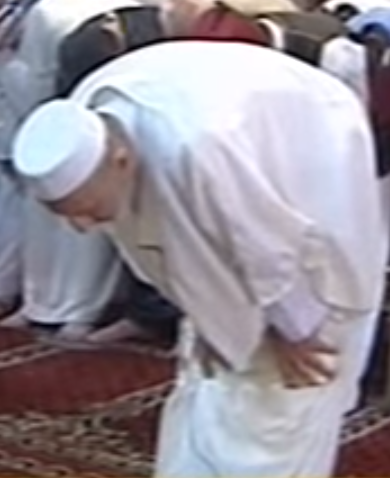ruku: (5, 29, 390, 467)
